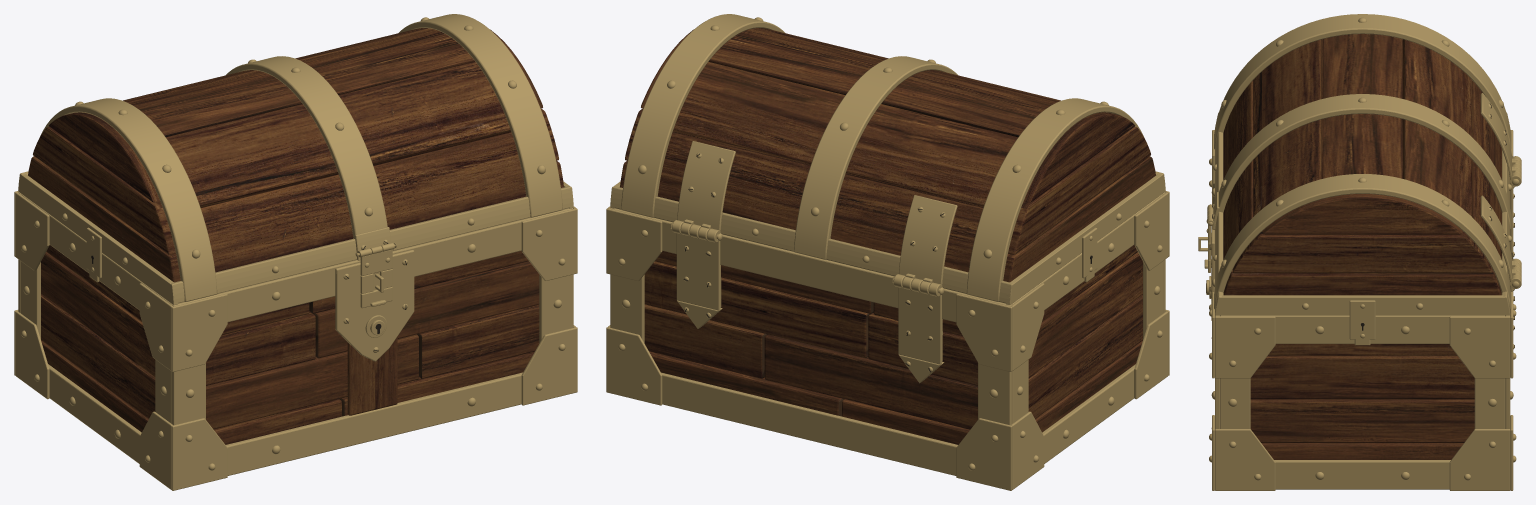
File: chest.fbx
3 renders of one model, left to right at view 1: azimuth 30°, elevation 25°; view 2: azimuth 150°, elevation 25°; view 3: azimuth 270°, elevation 25°, orthographic. The views are drawn at different scales.
Visible parts, largest first — view 1: Chest_Lid_Wood, Chest_Body_Metal, Chest_Body_Wood, Chest_Lid_Metal, Chest_Lid_Hasp; view 2: Chest_Lid_Wood, Chest_Body_Metal, Chest_Body_Wood, Chest_Lid_Metal; view 3: Chest_Lid_Wood, Chest_Lid_Metal, Chest_Body_Metal, Chest_Body_Wood.
Part boxes in pixels (box(x1,y1,x2,y2)): Chest_Lid_Wood: box(28, 28, 563, 282); Chest_Body_Metal: box(14, 191, 577, 490); Chest_Body_Wood: box(41, 245, 539, 444); Chest_Lid_Metal: box(18, 14, 573, 304); Chest_Lid_Hasp: box(360, 245, 392, 308); Chest_Lid_Wood: box(620, 28, 1155, 282); Chest_Body_Metal: box(606, 191, 1169, 490); Chest_Body_Wood: box(644, 245, 1142, 444); Chest_Lid_Metal: box(610, 14, 1165, 304); Chest_Lid_Wood: box(1223, 34, 1501, 295); Chest_Lid_Metal: box(1207, 14, 1521, 345); Chest_Body_Metal: box(1198, 130, 1521, 490); Chest_Body_Wood: box(1250, 344, 1474, 459).
Bounding box in the file's own units: 63.1 × 46.3 × 45.35.
Materials: 7 (2 with a texture image).
